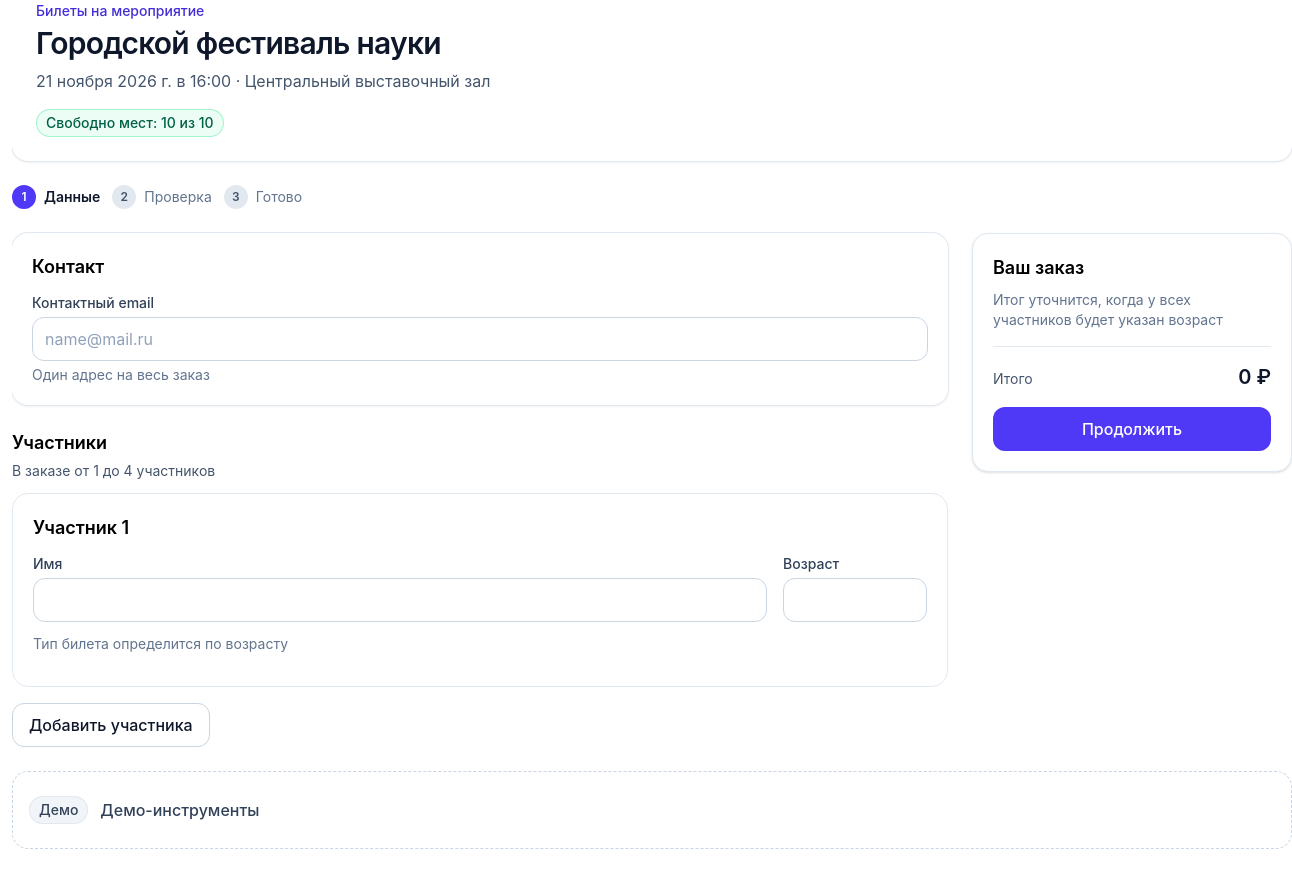
Test: демо-панель › «Занять все свободные места» вызывает эндпоинт и обновляет остаток
Click the heading "Демо Демо-инструменты" at (144,810), box [29,796,259,824]
(page scrolled)
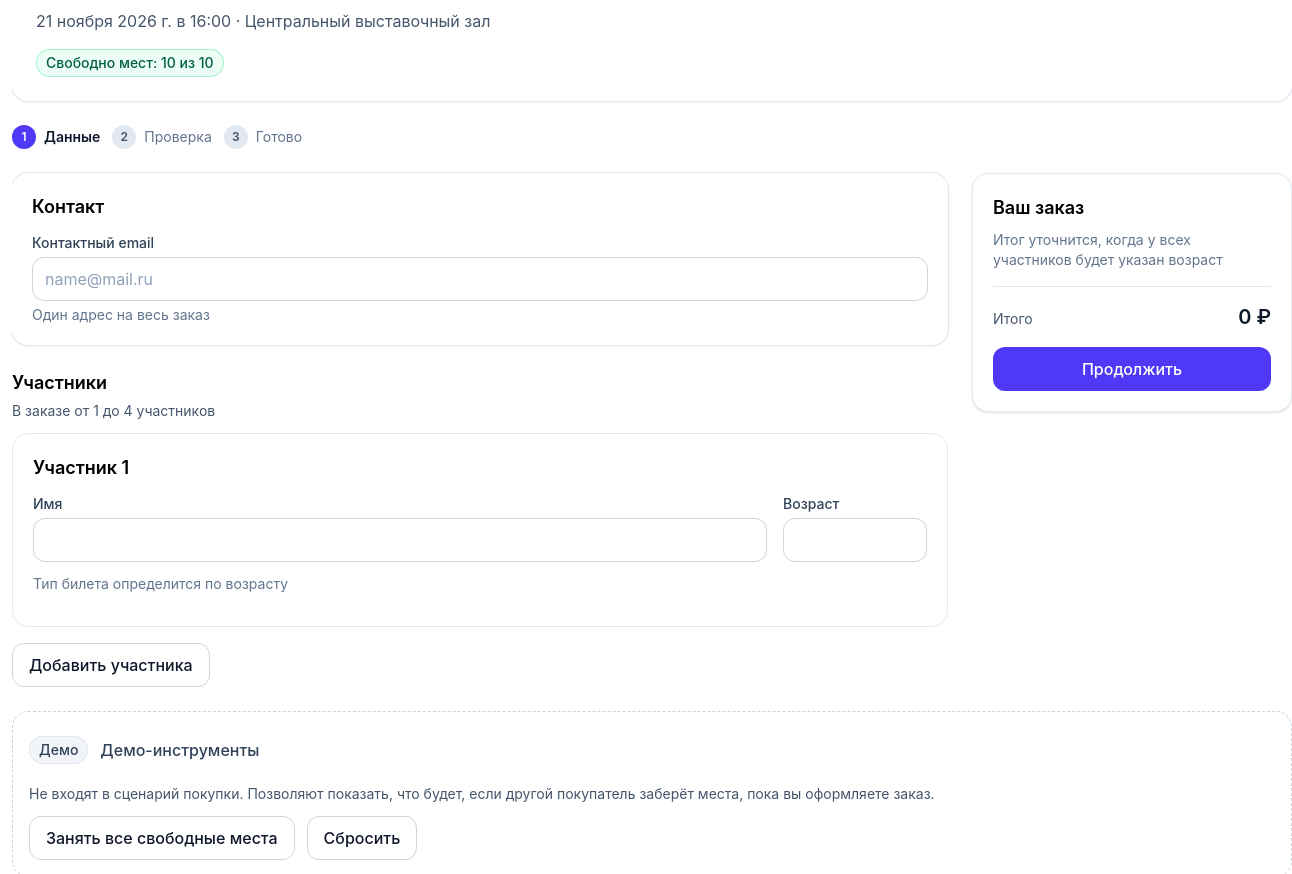
Click the button "Занять все свободные места" at (162,838), box [29,816,295,860]
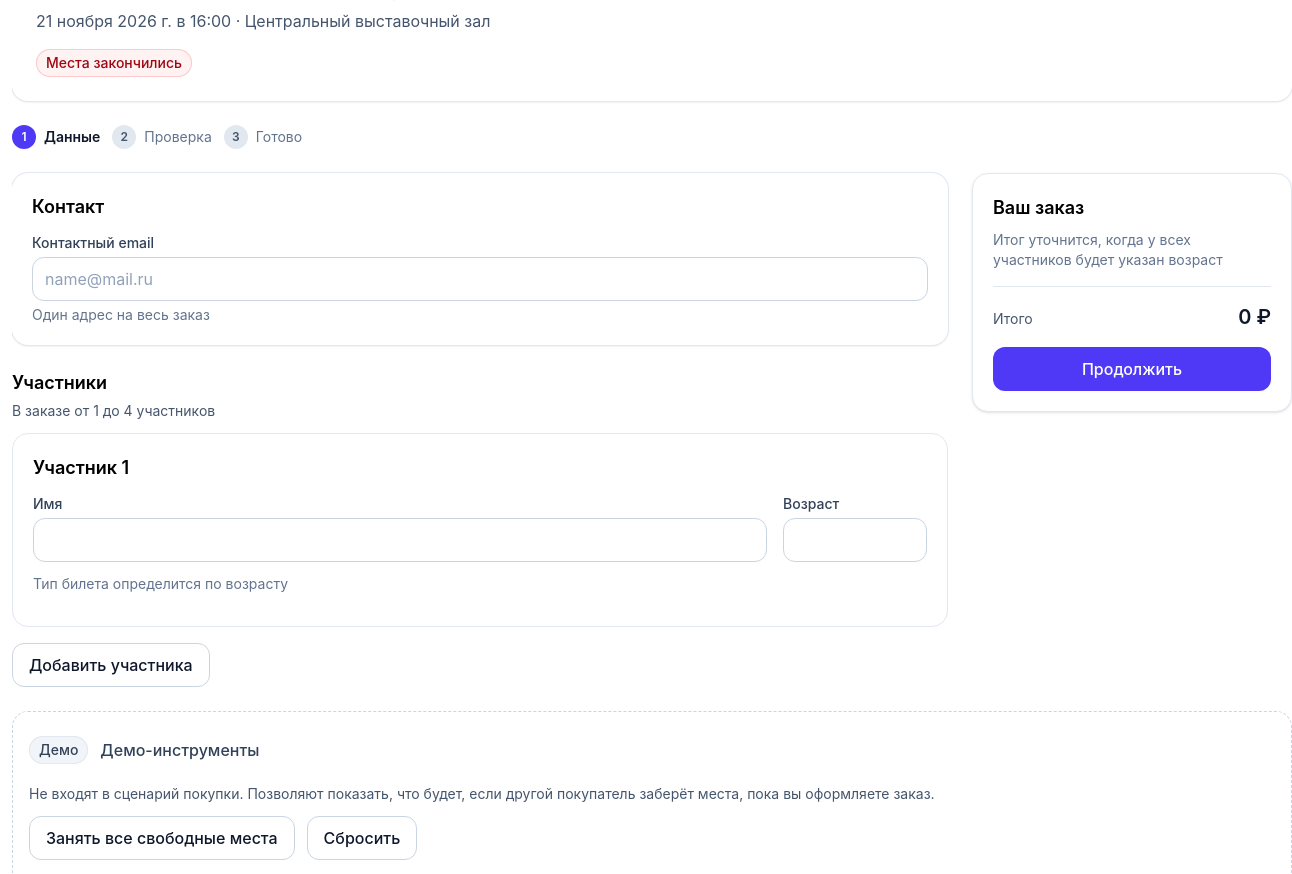
Expected: the text "Места закончились" is shown, [36,49,192,77]
